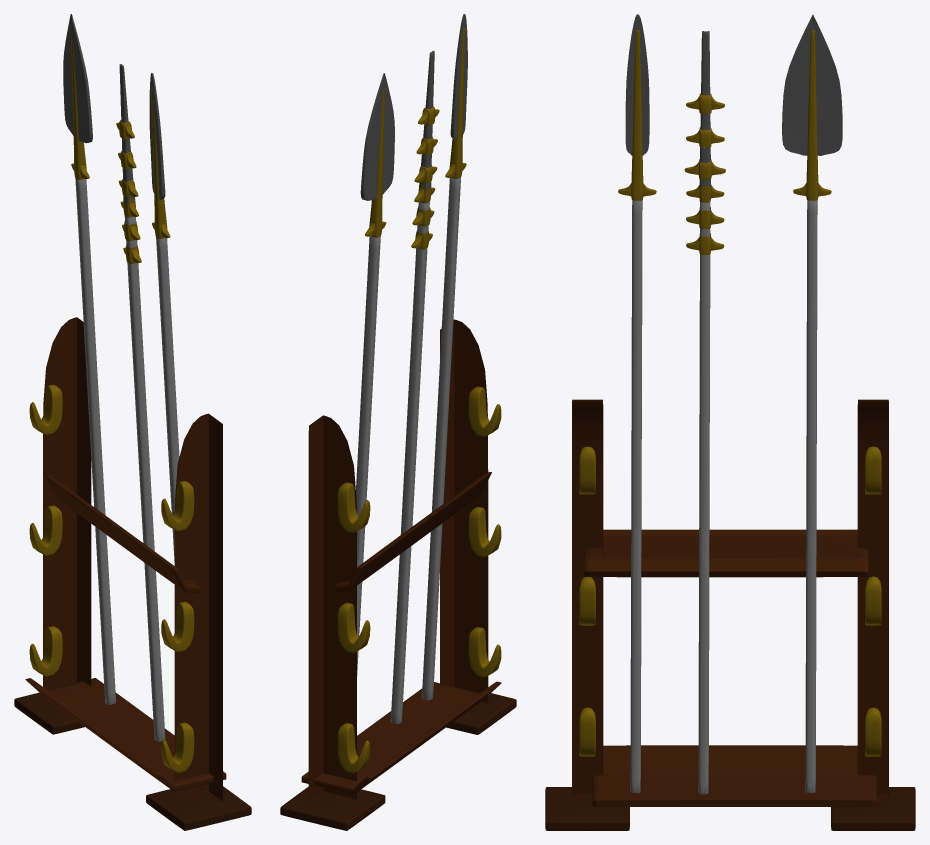
File: weaponStand2.fbx
3 views of the same model, side by side, from view 1: azimuth 30°, elevation 25°; view 2: azimuth 150°, elevation 25°; view 3: azimuth 270°, elevation 25° (orthographic). The views are drawn at different scales.
Visible parts, largest first — view 1: Cube.011; view 2: Cube.011; view 3: Cube.011.
Part boxes in pixels (<box>): Cube.011: <box>14,14,251,830</box>; Cube.011: <box>280,14,516,830</box>; Cube.011: <box>545,14,915,830</box>.
Bounding box in the file's own units: 31.71 × 292 × 125.
